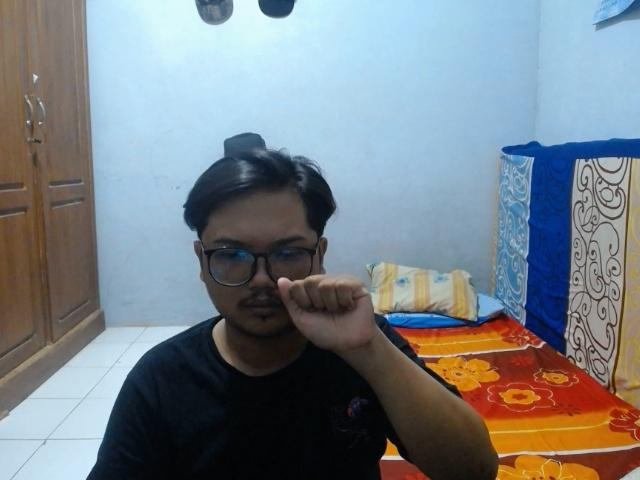Grab: (272, 269, 383, 360)
